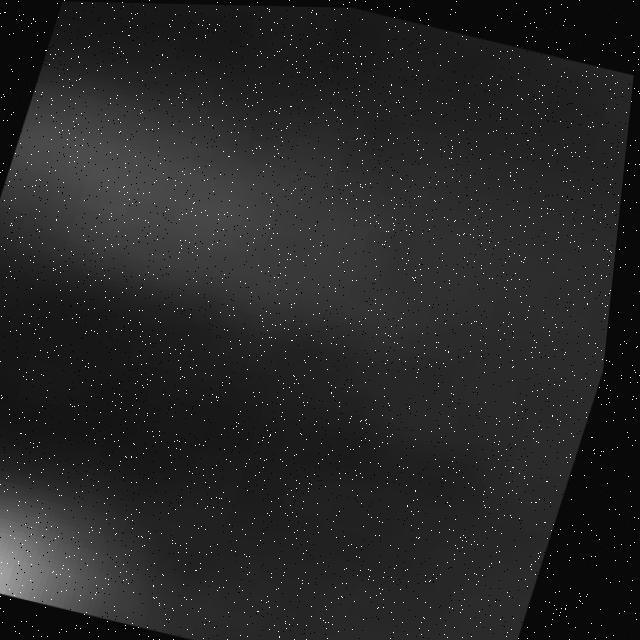person: (1, 467, 143, 617)
